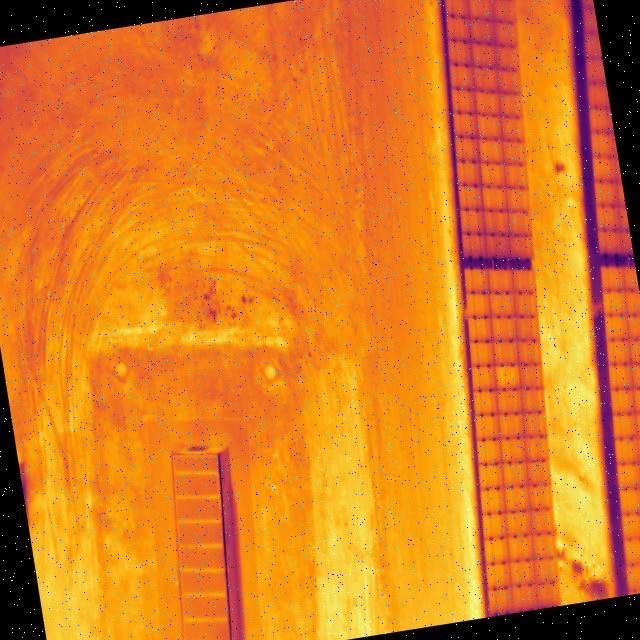Hotspot: (491, 358, 524, 396)
